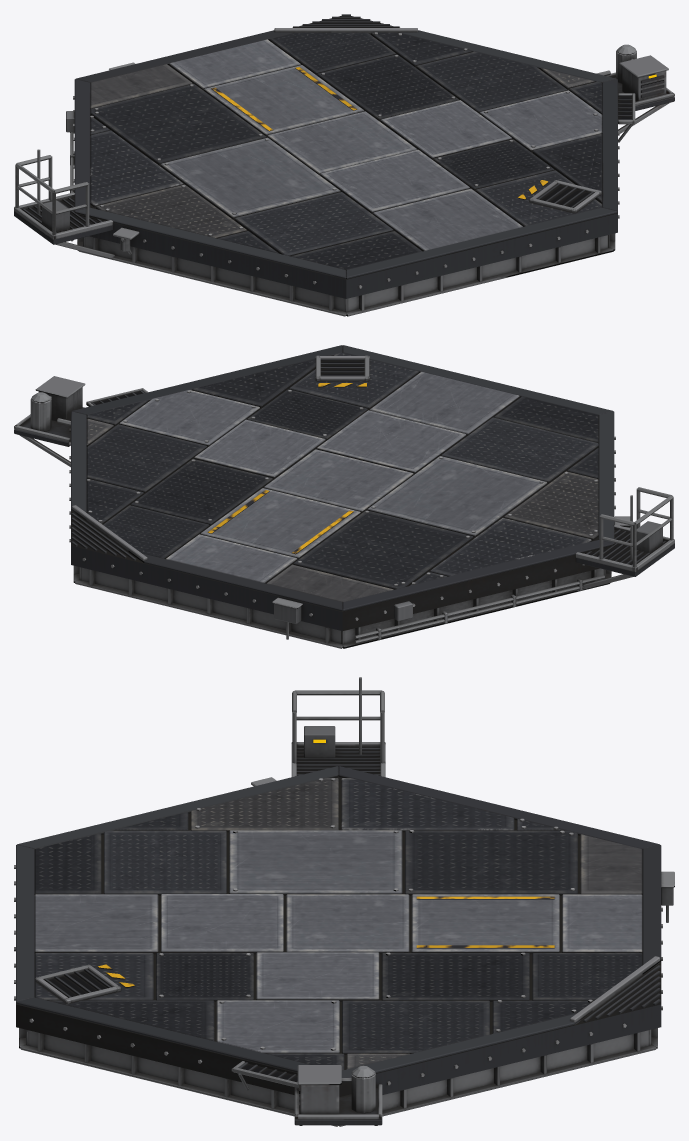
Rendered from nodexeus-set-deck-b.glb.
3 views of the same model, one above another, from view 1: azimuth 30°, elevation 25°; view 2: azimuth 150°, elevation 25°; view 3: azimuth 270°, elevation 25° (orthographic). The views are drawn at different scales.
Visible parts, largest first — view 1: set-deck-b; view 2: set-deck-b; view 3: set-deck-b.
Part boxes in pixels (bbox=[...]): set-deck-b: bbox=[14, 14, 674, 316]; set-deck-b: bbox=[14, 345, 674, 648]; set-deck-b: bbox=[14, 677, 674, 1126].
Bounding box in the file's own units: 13.63 × 2.14 × 10.54.
1 material, 1 textured.
